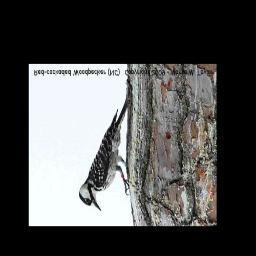Woodpecker: (77, 87, 132, 212)
